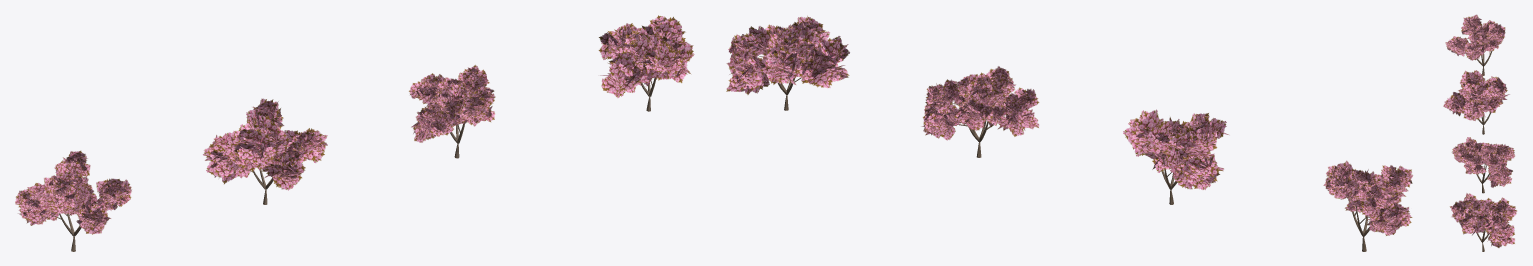
Rendered from tree_cherry.glb.
3 views of the same model, side by side, from view 1: azimuth 30°, elevation 25°; view 2: azimuth 150°, elevation 25°; view 3: azimuth 270°, elevation 25° (orthographic). The views are drawn at different scales.
Parts seen in each view (by area): view 1: v0_lo_leaf, v1_lo_leaf, v0_hi_leaf, v1_hi_leaf; view 2: v1_lo_leaf, v1_hi_leaf, v0_lo_leaf, v0_hi_leaf; view 3: v1_lo_leaf, v0_lo_leaf, v1_hi_leaf, v0_hi_leaf, v0_hi_bark, v1_hi_bark, v0_lo_bark, v1_lo_bark.
Boxes of the visible parts, x1=… form: v0_lo_leaf: x1=203, y1=98, x2=327, y2=190; v1_lo_leaf: x1=598, y1=15, x2=694, y2=97; v0_hi_leaf: x1=15, y1=150, x2=131, y2=234; v1_hi_leaf: x1=409, y1=65, x2=495, y2=142; v1_lo_leaf: x1=726, y1=16, x2=849, y2=94; v1_hi_leaf: x1=921, y1=66, x2=1039, y2=140; v0_lo_leaf: x1=1123, y1=109, x2=1228, y2=189; v0_hi_leaf: x1=1323, y1=160, x2=1413, y2=235; v1_lo_leaf: x1=1450, y1=193, x2=1516, y2=247; v0_lo_leaf: x1=1443, y1=70, x2=1509, y2=120; v1_hi_leaf: x1=1452, y1=137, x2=1514, y2=187; v0_hi_leaf: x1=1445, y1=14, x2=1505, y2=60; v0_hi_bark: x1=1476, y1=50, x2=1492, y2=75; v1_hi_bark: x1=1476, y1=163, x2=1489, y2=193; v0_lo_bark: x1=1478, y1=112, x2=1490, y2=134; v1_lo_bark: x1=1476, y1=228, x2=1489, y2=251.
Size of the model in its own units: 70 by 9.74 by 10.96.
Materials: 2 (2 with a texture image).
